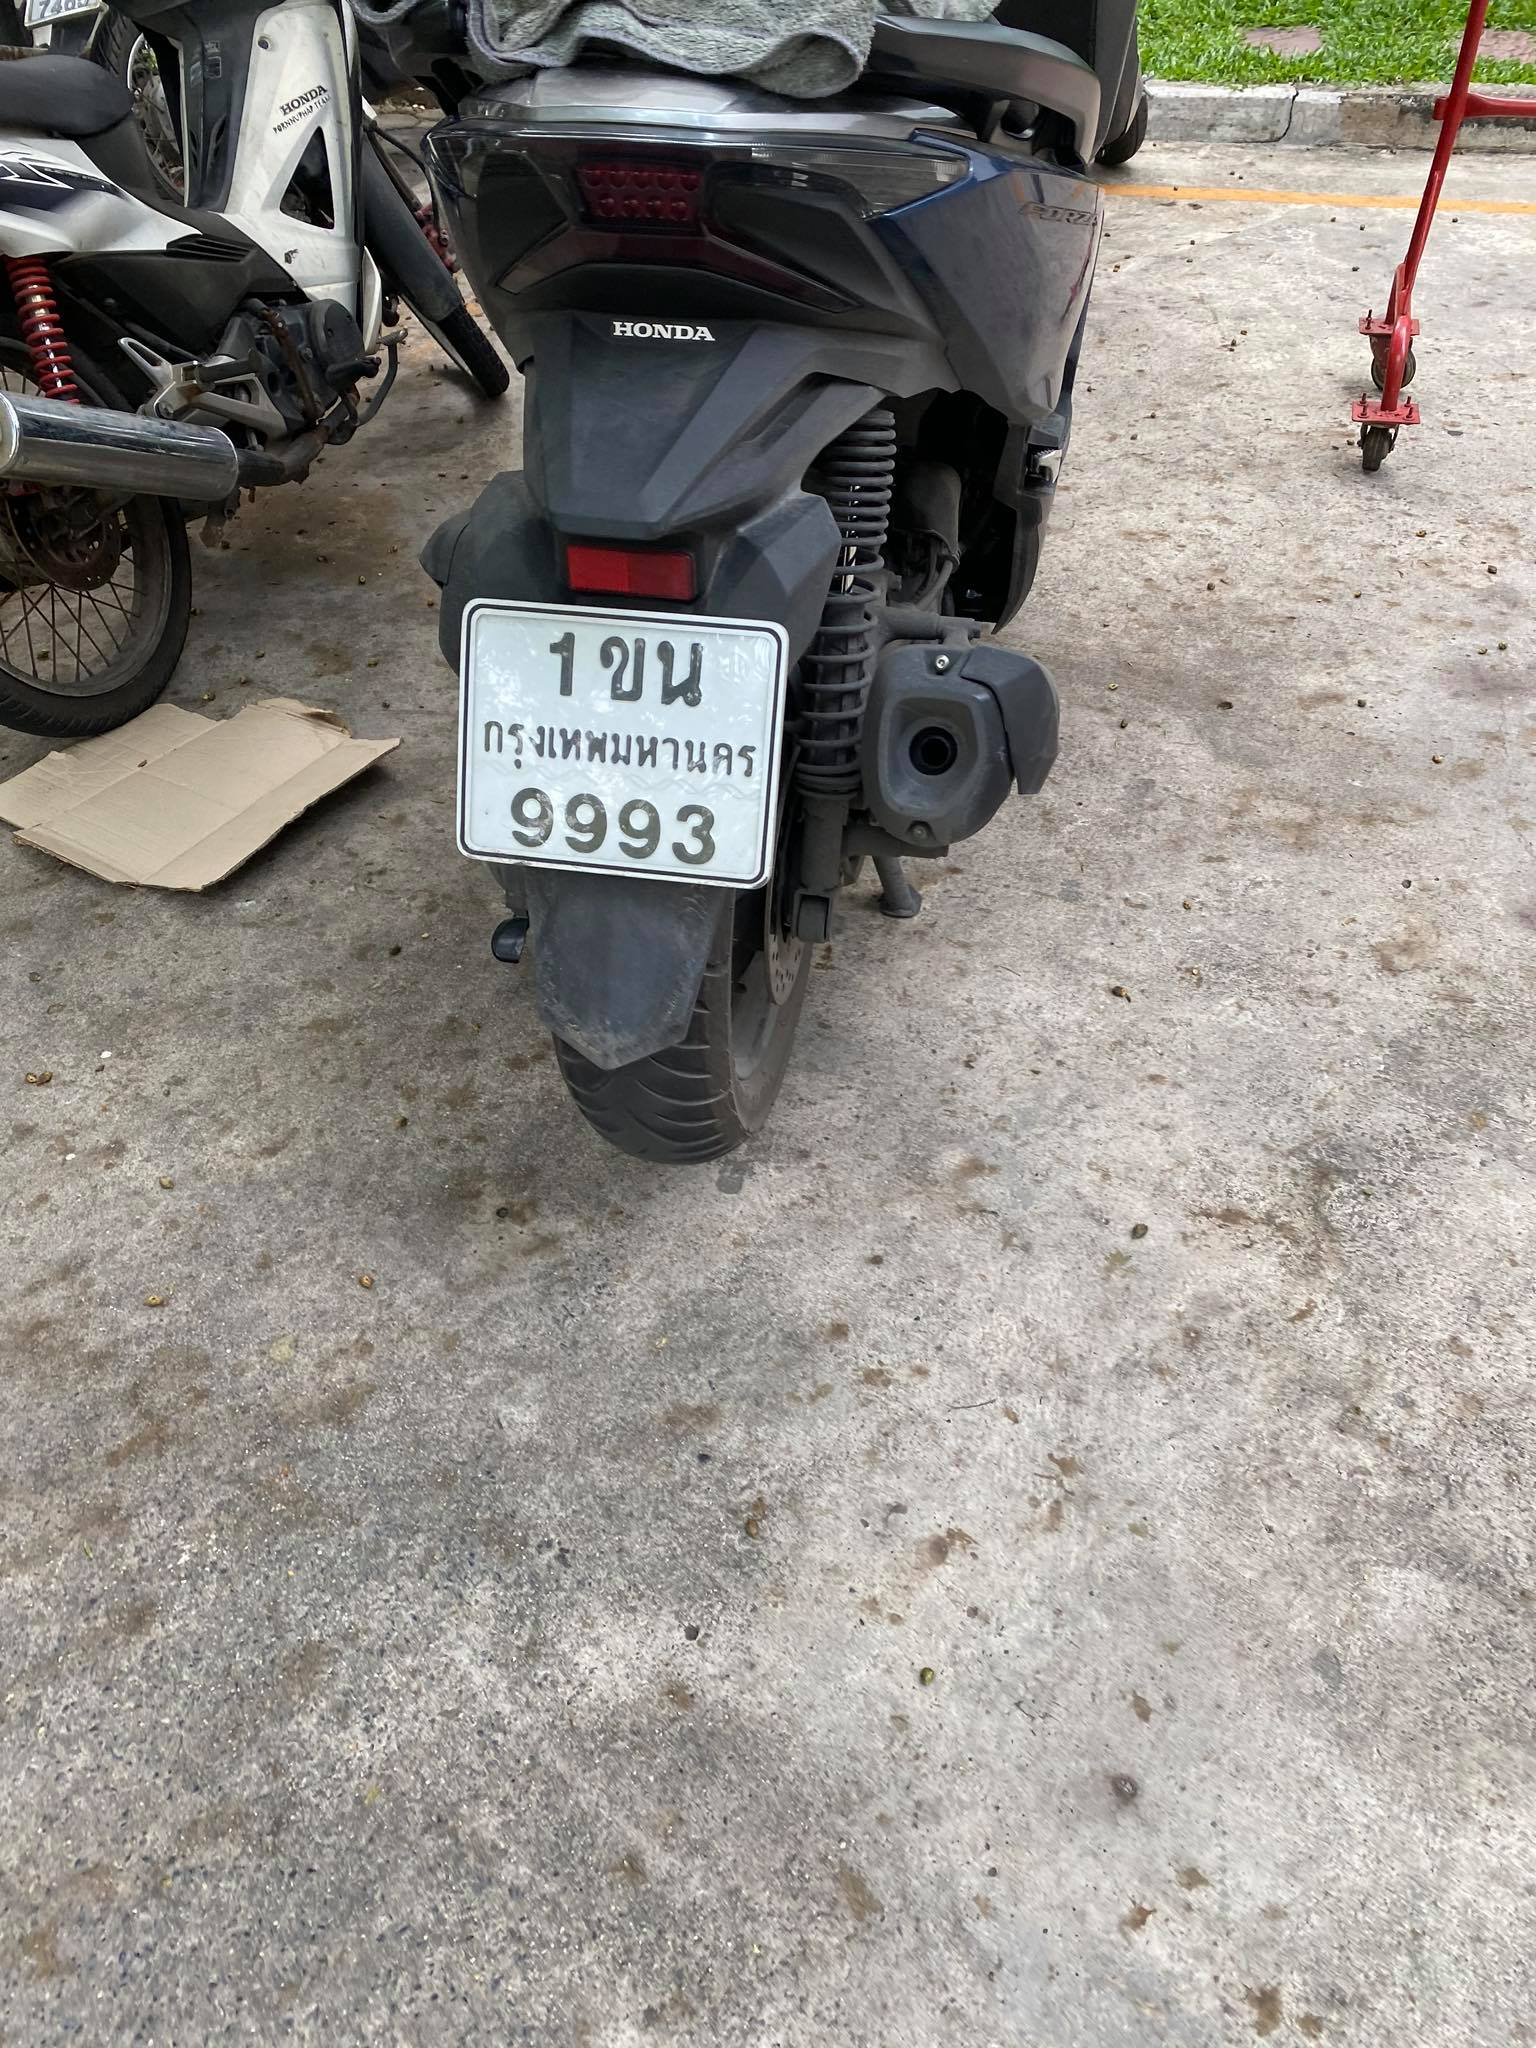line1: (536, 618, 710, 719)
line2: (463, 711, 783, 785)
line3: (494, 780, 736, 871)
